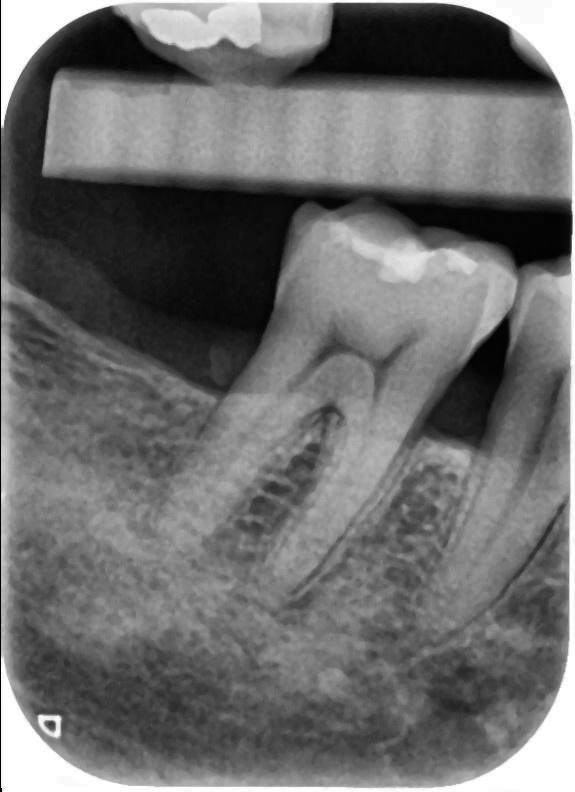Individual Tooth: (153, 192, 519, 592), (412, 257, 569, 643), (113, 7, 330, 88)
